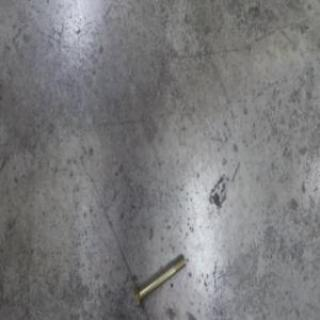Bolttrack_idkeyframe: (132, 251, 186, 312)
